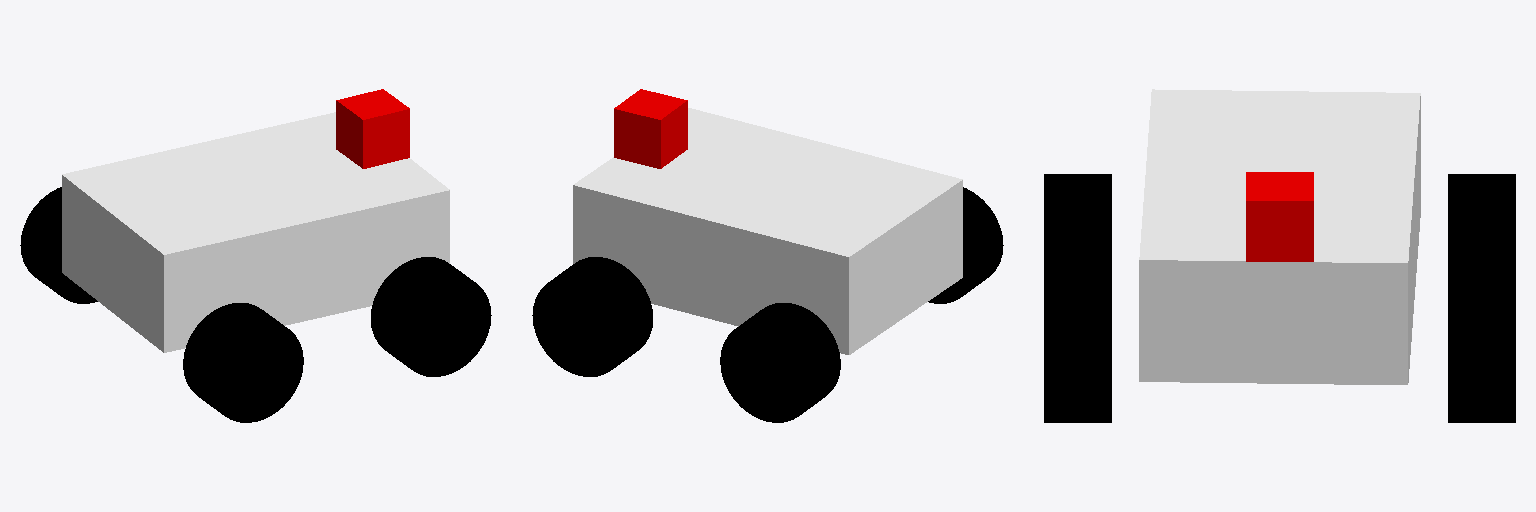
robot.urdf — robot1_xacro:
<?xml version="1.0" ?>
<!-- =================================================================================== -->
<!-- |    This document was autogenerated by xacro from robot1_base_01_cam.xacro       | -->
<!-- |    EDITING THIS FILE BY HAND IS NOT RECOMMENDED                                 | -->
<!-- =================================================================================== -->
<robot name="robot1_xacro" xmlns:controller="http://playerstage.sourceforge.net/gazebo/xmlschema/#controller" xmlns:interface="http://playerstage.sourceforge.net/gazebo/xmlschema/#interface" xmlns:sensor="http://playerstage.sourceforge.net/gazebo/xmlschema/#sensor" xmlns:xacro="http://www.ros.org/wiki/xacro">
  ` 
	
  <link name="base_footprint">
    <visual>
      <geometry>
        <box size="0.001 0.001 0.001"/>
      </geometry>
      <origin rpy="0 0 0" xyz="0 0 0"/>
    </visual>
    <inertial>
      <mass value="0.0001"/>
      <inertia ixx="1.0" ixy="0.0" ixz="0.0" iyy="1.0" iyz="0.0" izz="1.0"/>
    </inertial>
  </link>
  <!-- materials -->
  <gazebo reference="base_link">
    <material>Gazebo/Orange</material>
  </gazebo>
  <gazebo reference="wheel_1">
    <material>Gazebo/Black</material>
  </gazebo>
  <gazebo reference="wheel_2">
    <material>Gazebo/Black</material>
  </gazebo>
  <gazebo reference="wheel_3">
    <material>Gazebo/Black</material>
  </gazebo>
  <gazebo reference="wheel_4">
    <material>Gazebo/Black</material>
  </gazebo>
  <!-- ros_control plugin -->
  <gazebo>
    <plugin filename="libgazebo_ros_control.so" name="gazebo_ros_control">
      <robotNamespace>/robot</robotNamespace>
    </plugin>
  </gazebo>
  <!-- Link1 -->
  <gazebo reference="link1">
    <material>Gazebo/Orange</material>
  </gazebo>
  <!-- Link2 -->
  <gazebo reference="link2">
    <mu1>0.2</mu1>
    <mu2>0.2</mu2>
    <material>Gazebo/Black</material>
  </gazebo>
  <!-- Link3 -->
  <gazebo reference="link3">
    <mu1>0.2</mu1>
    <mu2>0.2</mu2>
    <material>Gazebo/Orange</material>
  </gazebo>
  <!-- camera_link -->
  <gazebo reference="camera_link">
    <mu1>0.2</mu1>
    <mu2>0.2</mu2>
    <material>Gazebo/Red</material>
  </gazebo>
  <!-- hokuyo -->
  <gazebo reference="hokuyo_link">
    <sensor name="head_hokuyo_sensor" type="ray">
      <pose>0 0 0 0 0 0</pose>
      <visualize>false</visualize>
      <update_rate>40</update_rate>
      <ray>
        <scan>
          <horizontal>
            <samples>720</samples>
            <resolution>1</resolution>
            <min_angle>-1.570796</min_angle>
            <max_angle>1.570796</max_angle>
          </horizontal>
        </scan>
        <range>
          <min>0.10</min>
          <max>30.0</max>
          <resolution>0.01</resolution>
        </range>
        <noise>
          <type>gaussian</type>
          <!-- Noise parameters based on published spec for Hokuyo laser
               achieving "+-30mm" accuracy at range < 10m.  A mean of 0.0m and
               stddev of 0.01m will put 99.7% of samples within 0.03m of the true
               reading. -->
          <mean>0.0</mean>
          <stddev>0.01</stddev>
        </noise>
      </ray>
      <plugin filename="libgazebo_ros_laser.so" name="gazebo_ros_head_hokuyo_controller">
        <topicName>/robot/laser/scan</topicName>
        <frameName>hokuyo_link</frameName>
      </plugin>
    </sensor>
  </gazebo>
  <!-- camera -->
  <gazebo reference="camera_link">
    <sensor name="camera1" type="camera">
      <update_rate>30.0</update_rate>
      <camera name="head">
        <horizontal_fov>1.3962634</horizontal_fov>
        <image>
          <width>800</width>
          <height>800</height>
          <format>R8G8B8</format>
        </image>
        <clip>
          <near>0.02</near>
          <far>300</far>
        </clip>
        <noise>
          <type>gaussian</type>
          <!-- Noise is sampled independently per pixel on each frame.  
               That pixel's noise value is added to each of its color
               channels, which at that point lie in the range [0,1]. -->
          <mean>0.0</mean>
          <stddev>0.007</stddev>
        </noise>
      </camera>
      <plugin filename="libgazebo_ros_camera.so" name="camera_controller">
        <alwaysOn>true</alwaysOn>
        <updateRate>0.0</updateRate>
        <cameraName>robot/camera1</cameraName>
        <imageTopicName>image_raw</imageTopicName>
        <cameraInfoTopicName>camera_info</cameraInfoTopicName>
        <frameName>camera_link</frameName>
        <hackBaseline>0.07</hackBaseline>
        <distortionK1>0.0</distortionK1>
        <distortionK2>0.0</distortionK2>
        <distortionK3>0.0</distortionK3>
        <distortionT1>0.0</distortionT1>
        <distortionT2>0.0</distortionT2>
      </plugin>
    </sensor>
  </gazebo>
  <gazebo reference="base_footprint">
    <material>Gazebo/Green</material>
    <turnGravityOff>false</turnGravityOff>
  </gazebo>
  <joint name="base_footprint_joint" type="fixed">
    <origin xyz="0 0 0"/>
    <parent link="base_footprint"/>
    <child link="base_link"/>
  </joint>
  <link name="base_link">
    <visual>
      <geometry>
        <box size="0.2 .3 .1"/>
      </geometry>
      <origin rpy="0 0 1.54" xyz="0 0 0.05"/>
      <material name="white">
        <color rgba="1 1 1 1"/>
      </material>
    </visual>
    <collision>
      <geometry>
        <box size="0.2 .3 0.1"/>
      </geometry>
    </collision>
    <inertial>
      <mass value="10"/>
      <inertia ixx="1.0" ixy="0.0" ixz="0.0" iyy="1.0" iyz="0.0" izz="1.0"/>
    </inertial>
  </link>
  <link name="wheel_1">
    <visual>
      <geometry>
        <cylinder length="0.05" radius="0.05"/>
      </geometry>
      <!-- <origin rpy="0 1.5 0" xyz="0.1 0.1 0"/> -->
      <origin rpy="0 0 0" xyz="0 0 0"/>
      <material name="black">
        <color rgba="0 0 0 1"/>
      </material>
    </visual>
    <collision>
      <geometry>
        <cylinder length="0.05" radius="0.05"/>
      </geometry>
    </collision>
    <inertial>
      <mass value="1"/>
      <inertia ixx="1.0" ixy="0.0" ixz="0.0" iyy="1.0" iyz="0.0" izz="1.0"/>
    </inertial>
  </link>
  <link name="wheel_2">
    <visual>
      <geometry>
        <cylinder length="0.05" radius="0.05"/>
      </geometry>
      <!-- <origin rpy="0 1.5 0" xyz="-0.1 0.1 0"/> -->
      <origin rpy="0 0 0" xyz="0 0 0"/>
      <material name="black"/>
    </visual>
    <collision>
      <geometry>
        <cylinder length="0.05" radius="0.05"/>
      </geometry>
    </collision>
    <inertial>
      <mass value="1"/>
      <inertia ixx="1.0" ixy="0.0" ixz="0.0" iyy="1.0" iyz="0.0" izz="1.0"/>
    </inertial>
  </link>
  <link name="wheel_3">
    <visual>
      <geometry>
        <cylinder length="0.05" radius="0.05"/>
      </geometry>
      <!-- <origin rpy="0 1.5 0" xyz="0.1 -0.1 0"/> -->
      <origin rpy="0 0 0" xyz="0 0 0"/>
      <material name="black"/>
    </visual>
    <collision>
      <geometry>
        <cylinder length="0.05" radius="0.05"/>
      </geometry>
    </collision>
    <inertial>
      <mass value="1"/>
      <inertia ixx="1.0" ixy="0.0" ixz="0.0" iyy="1.0" iyz="0.0" izz="1.0"/>
    </inertial>
  </link>
  <link name="wheel_4">
    <visual>
      <geometry>
        <cylinder length="0.05" radius="0.05"/>
      </geometry>
      <!--	<origin rpy="0 1.5 0" xyz="-0.1 -0.1 0"/> -->
      <origin rpy="0 0 0" xyz="0 0 0"/>
      <material name="black"/>
    </visual>
    <collision>
      <geometry>
        <cylinder length="0.05" radius="0.05"/>
      </geometry>
    </collision>
    <inertial>
      <mass value="1"/>
      <inertia ixx="1.0" ixy="0.0" ixz="0.0" iyy="1.0" iyz="0.0" izz="1.0"/>
    </inertial>
  </link>
  <joint name="base_to_wheel1" type="continuous">
    <parent link="base_link"/>
    <child link="wheel_1"/>
    <origin rpy="1.5707 0 0" xyz="0.1 0.15 0"/>
    <axis xyz="0 0 1"/>
  </joint>
  <joint name="base_to_wheel2" type="continuous">
    <axis xyz="0 0 1"/>
    <anchor xyz="0 0 0"/>
    <limit effort="100" velocity="100"/>
    <parent link="base_link"/>
    <child link="wheel_2"/>
    <origin rpy="1.5707 0 0" xyz="-0.1 0.15 0"/>
  </joint>
  <joint name="base_to_wheel3" type="continuous">
    <parent link="base_link"/>
    <axis xyz="0 0 1"/>
    <child link="wheel_3"/>
    <origin rpy="1.5707 0 0" xyz="0.1 -0.15 0"/>
  </joint>
  <joint name="base_to_wheel4" type="continuous">
    <parent link="base_link"/>
    <axis xyz="0 0 1"/>
    <child link="wheel_4"/>
    <origin rpy="1.5707 0 0" xyz="-0.1 -0.15 0"/>
  </joint>
  <joint name="camera_joint" type="fixed">
    <axis xyz="0 1 0"/>
    <origin rpy="0 0 0" xyz="0.125 0 0.125"/>
    <parent link="base_link"/>
    <child link="camera_link"/>
  </joint>
  <!-- Camera -->
  <link name="camera_link">
    <collision>
      <origin rpy="0 0 0" xyz="0 0 0"/>
      <geometry>
        <box size="0.05 0.05 0.05"/>
      </geometry>
    </collision>
    <visual>
      <origin rpy="0 0 0" xyz="0 0 0"/>
      <geometry>
        <box size="0.05 0.05 0.05"/>
      </geometry>
      <material name="red">
        <color rgba="1 0 0 1"/>
      </material>
    </visual>
    <inertial>
      <mass value="1e-5"/>
      <origin rpy="0 0 0" xyz="0 0 0"/>
      <inertia ixx="1e-6" ixy="0" ixz="0" iyy="1e-6" iyz="0" izz="1e-6"/>
    </inertial>
  </link>
</robot>

--- Render facts (derived) ---
3 views of the same robot in one strip: view 1: azimuth 30°, elevation 25°; view 2: azimuth 150°, elevation 25°; view 3: azimuth 270°, elevation 25° (orthographic).
Robot: robot1_xacro — 7 links, 6 joints (4 continuous, 2 fixed); root link base_footprint; default pose: every joint at zero.
Visible links, largest first — view 1: base_link, wheel_4, wheel_3, camera_link, wheel_2; view 2: base_link, wheel_2, wheel_1, camera_link, wheel_4; view 3: base_link, wheel_1, wheel_3, wheel_2, wheel_4, camera_link.
Boxes of the visible links, box(x1,y1,x2,y2) form: base_link: box(62, 112, 449, 352); wheel_4: box(183, 303, 303, 422); wheel_3: box(371, 257, 491, 376); camera_link: box(336, 89, 409, 168); wheel_2: box(20, 187, 97, 303); base_link: box(573, 108, 962, 354); wheel_2: box(720, 303, 840, 422); wheel_1: box(532, 257, 652, 376); camera_link: box(614, 89, 687, 168); wheel_4: box(928, 187, 1003, 303); base_link: box(1139, 89, 1420, 384); wheel_1: box(1448, 288, 1515, 422); wheel_3: box(1044, 288, 1111, 422); wheel_2: box(1448, 174, 1515, 287); wheel_4: box(1044, 174, 1111, 287); camera_link: box(1246, 172, 1313, 261).
Size in the robot's own frame: 0.306 by 0.35 by 0.2 metres.
Geometry: primitives only (box / cylinder / sphere), no mesh files.
